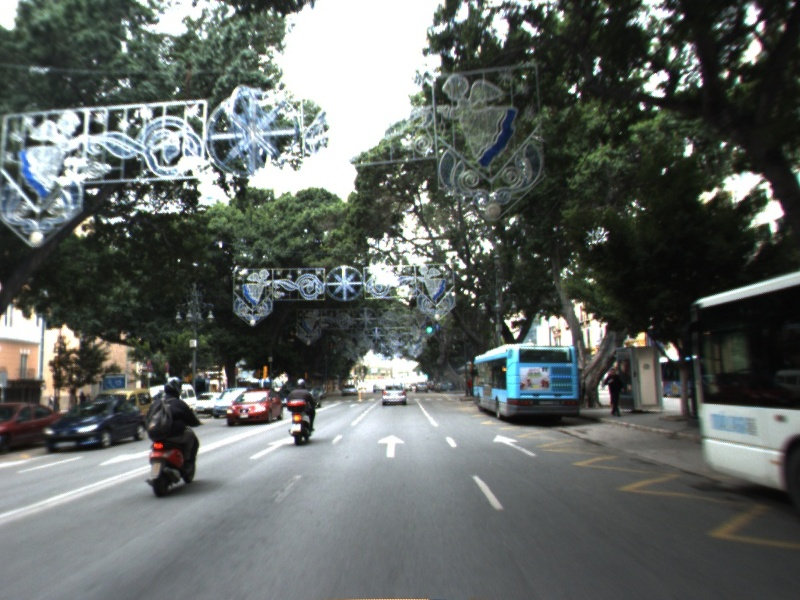STRAIGHT: (491, 432, 540, 459), (248, 435, 296, 461), (376, 433, 407, 459)
